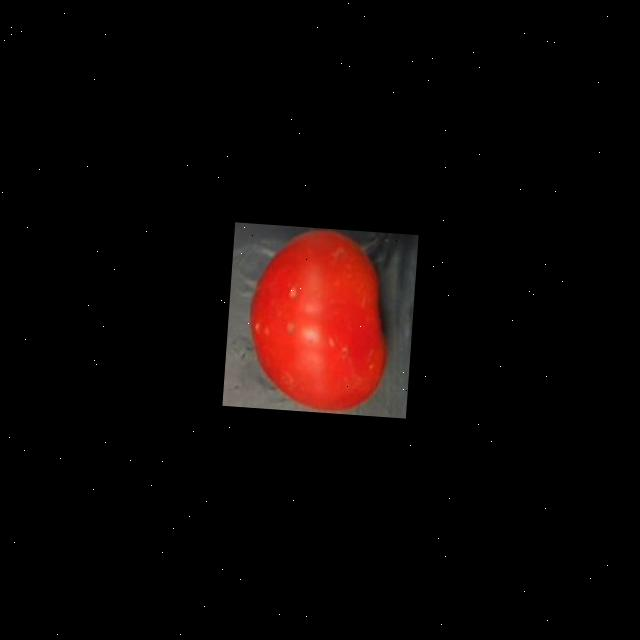tomato: (248, 230, 386, 409)
